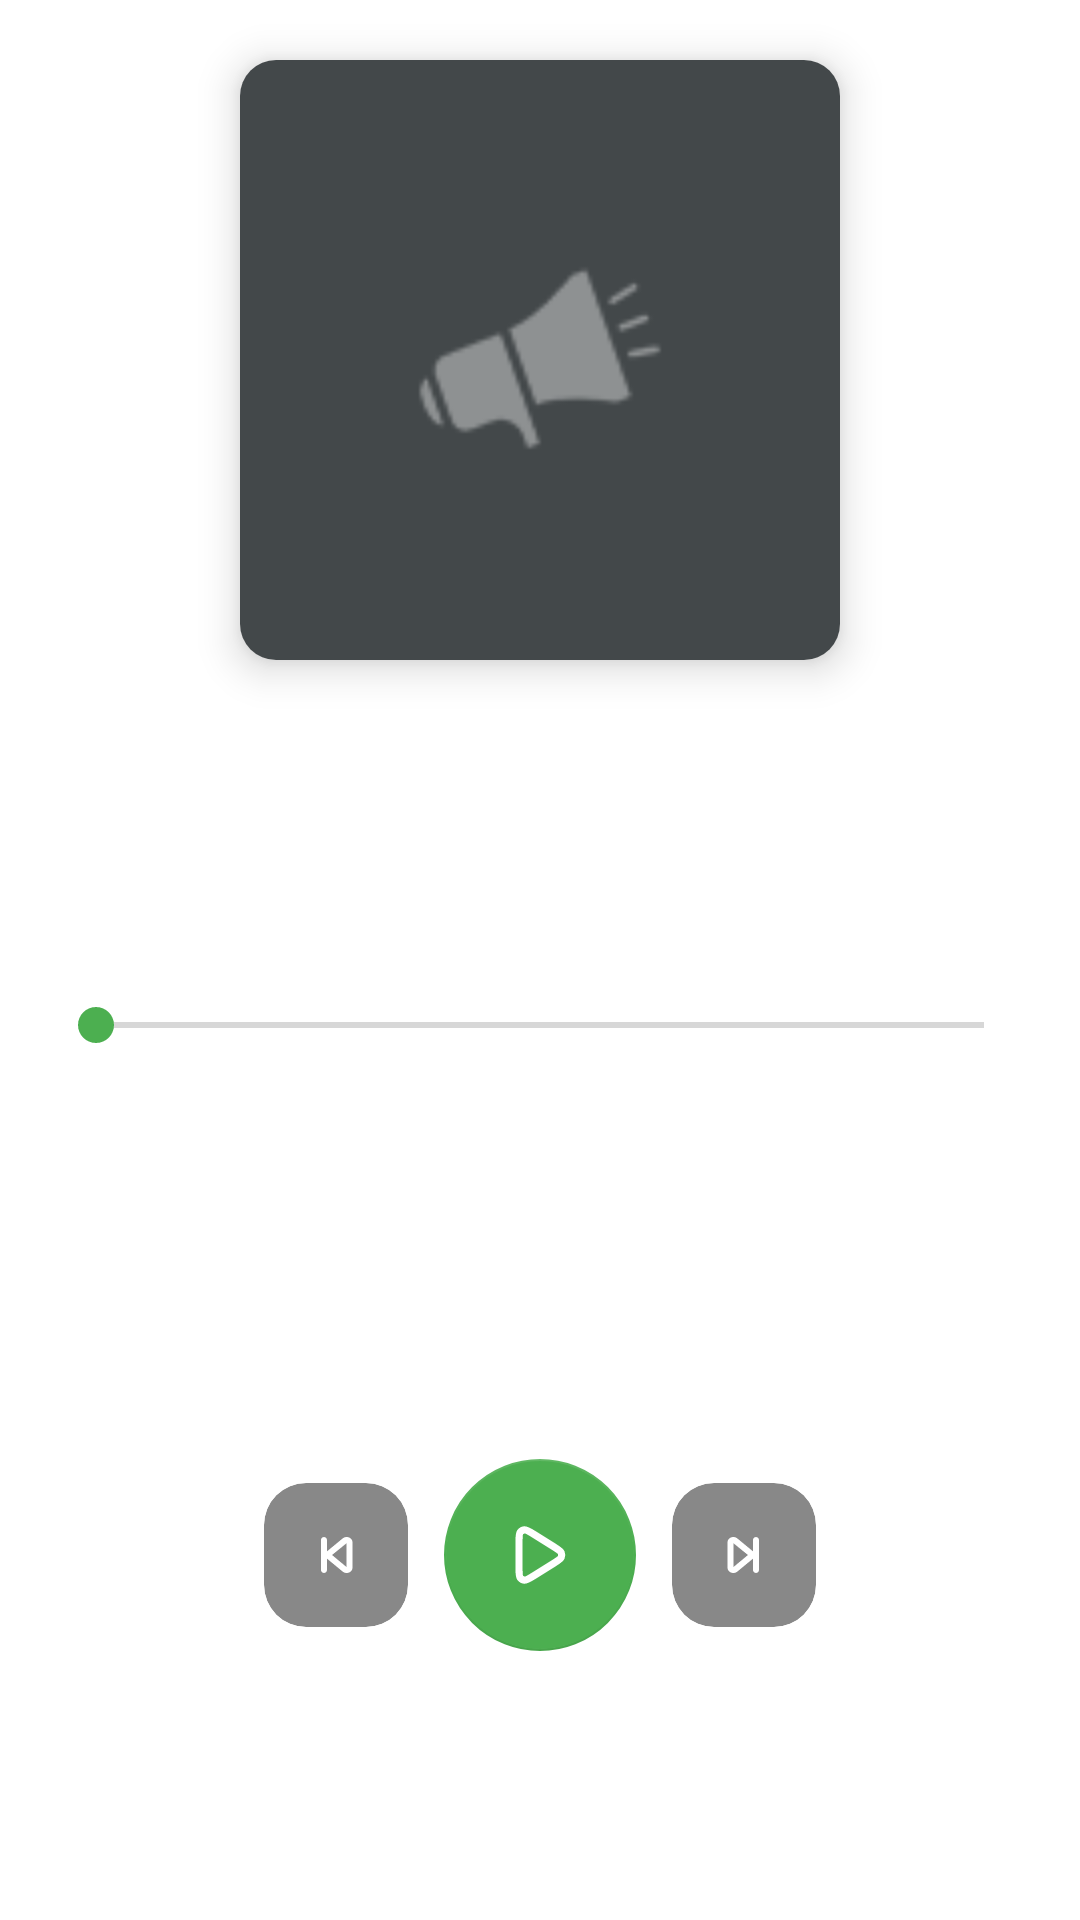

Screen size 1080 x 1920. Icon name, then its center in pixels as (x=x, y=y):
Дальше: (x=744, y=1555)
Играть: (x=540, y=1555)
Назад: (x=336, y=1555)
